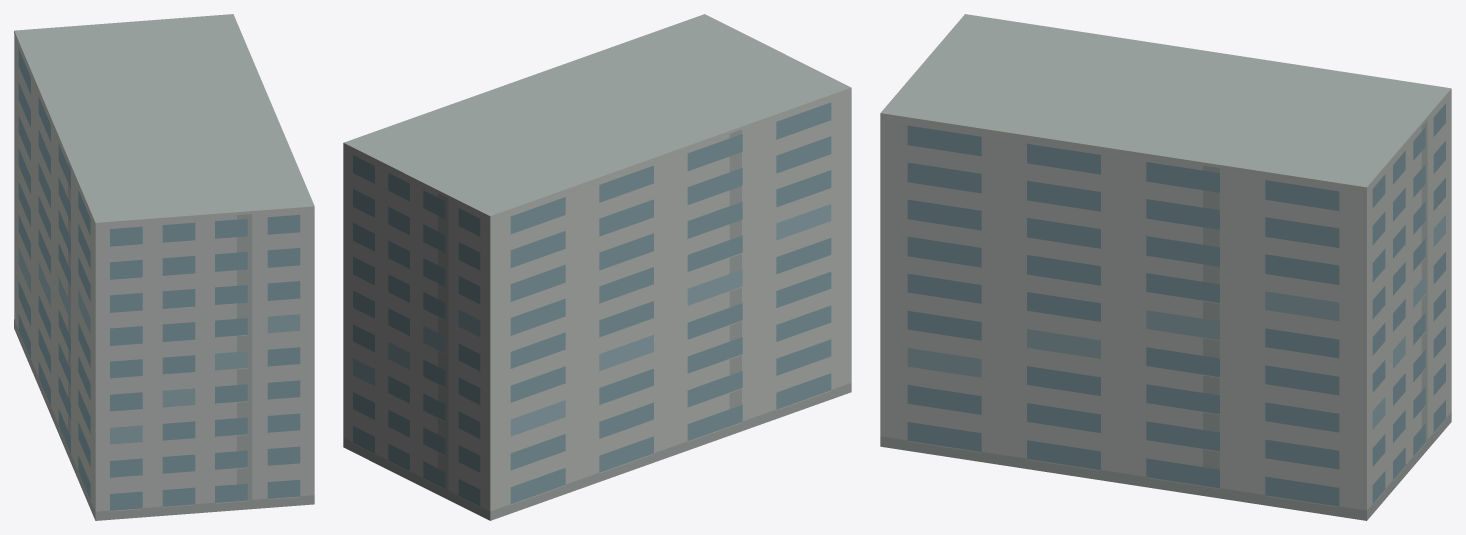
File: residential-23cb0baf-aa4b-468a-9e32-c6502e29ebe5.glb
The picture shows the model from 3 angles, left to right: view 1: azimuth 30°, elevation 25°; view 2: azimuth 150°, elevation 25°; view 3: azimuth 270°, elevation 25°; orthographic projection. The views are drawn at different scales.
Visible parts, largest first — view 1: residential-23cb0baf-aa4b-468a-9e32-c6502e29ebe5.tmp; view 2: residential-23cb0baf-aa4b-468a-9e32-c6502e29ebe5.tmp; view 3: residential-23cb0baf-aa4b-468a-9e32-c6502e29ebe5.tmp.
Part boxes in pixels (<box>): residential-23cb0baf-aa4b-468a-9e32-c6502e29ebe5.tmp: <box>14,14,314,520</box>; residential-23cb0baf-aa4b-468a-9e32-c6502e29ebe5.tmp: <box>343,14,851,520</box>; residential-23cb0baf-aa4b-468a-9e32-c6502e29ebe5.tmp: <box>880,14,1451,520</box>.
Size of the model in its own units: 27.88 by 25 by 38.82.
